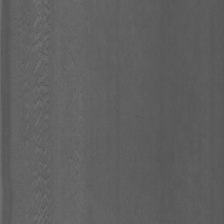silk_spot: (28, 5, 54, 224)
